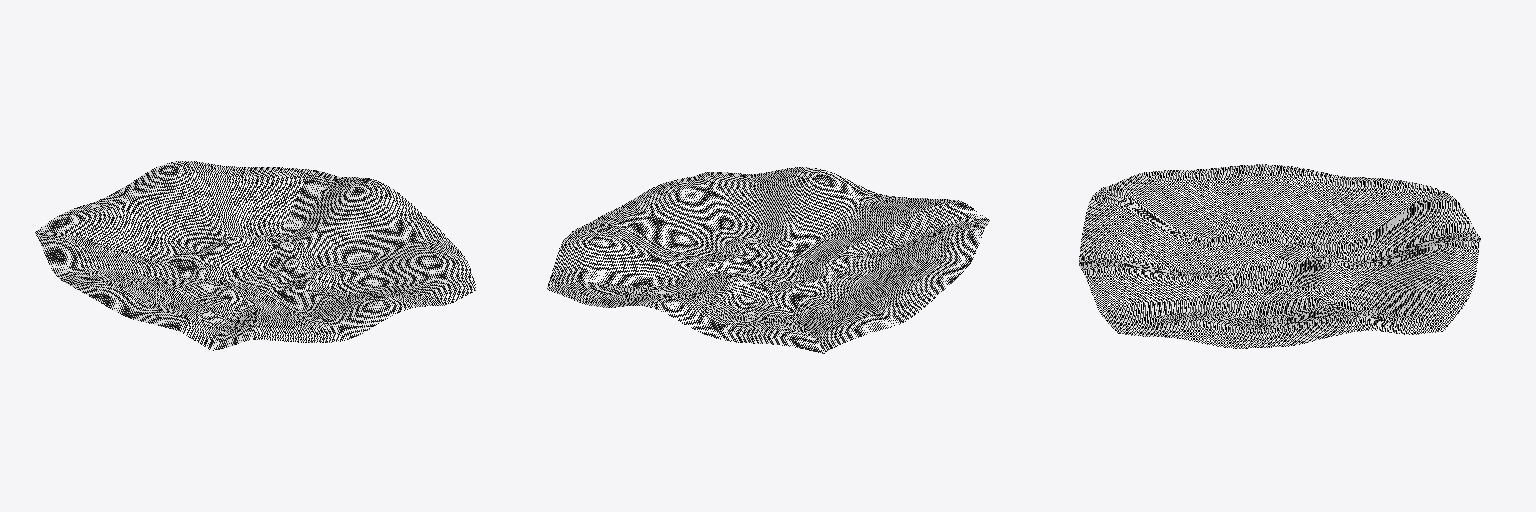
The picture shows the model from 3 angles: view 1: azimuth 30°, elevation 25°; view 2: azimuth 150°, elevation 25°; view 3: azimuth 270°, elevation 25°; orthographic projection.
Visible parts, largest first — view 1: Grid; view 2: Grid; view 3: Grid.
Boxes of the visible parts, <box> form: Grid: <box>35,161,476,350</box>; Grid: <box>547,167,989,353</box>; Grid: <box>1079,164,1480,348</box>.
Size of the model in its own units: 930 by 90.9 by 931.
Materials: 1 (1 with a texture image).